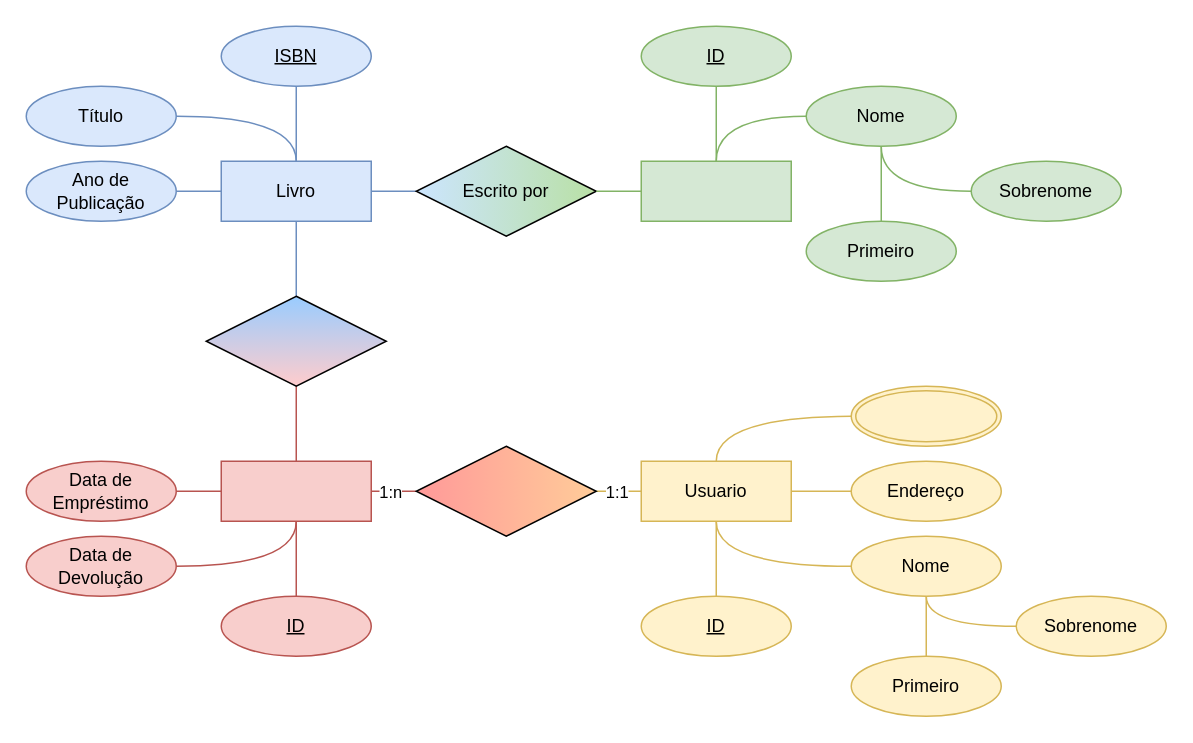
Image size: 1193x743. Some labels were removed from this diagram. Here are the shapes that lost their labels. From the top down, the centre of each, then its label:
At point 715,190: "Autor".
At point 295,340: "Contem".
At point 925,415: "Telefone".
At point 295,490: "Emprestimo".
At point 505,490: "Possui".
